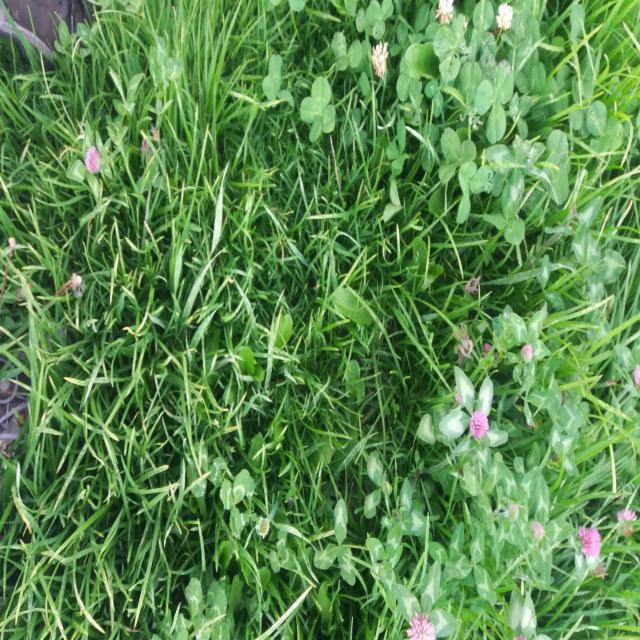Four Leaf Clover: (300, 76, 335, 142)
